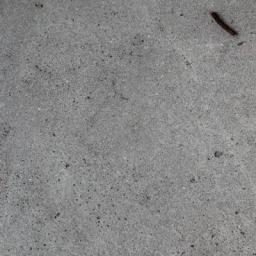FOD: (208, 7, 242, 45)
